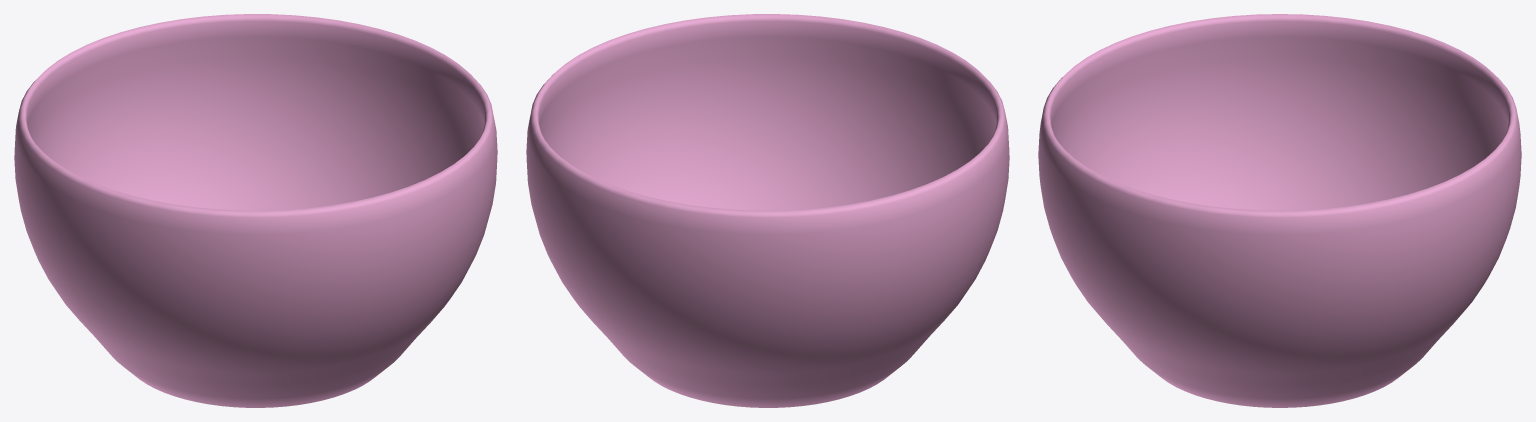
Rendered from bowl.gltf.
3 renders of one model, left to right at view 1: azimuth 30°, elevation 25°; view 2: azimuth 150°, elevation 25°; view 3: azimuth 270°, elevation 25°, orthographic.
Parts seen in each view (by area): view 1: Sphere; view 2: Sphere; view 3: Sphere.
Boxes of the visible parts, left/top/right/bottom form: Sphere: left=14, top=14, right=497, bottom=407; Sphere: left=526, top=14, right=1009, bottom=407; Sphere: left=1038, top=14, right=1521, bottom=407.
Size of the model in its own units: 19.81 by 11.06 by 19.81.
